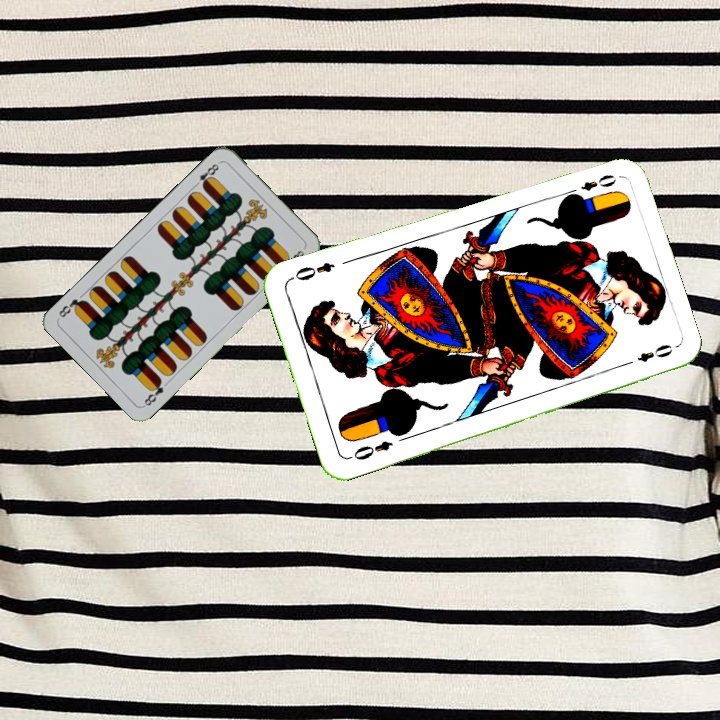E8: (190, 158, 223, 191), (140, 375, 166, 409)
EO: (563, 170, 619, 200), (345, 436, 395, 463)
